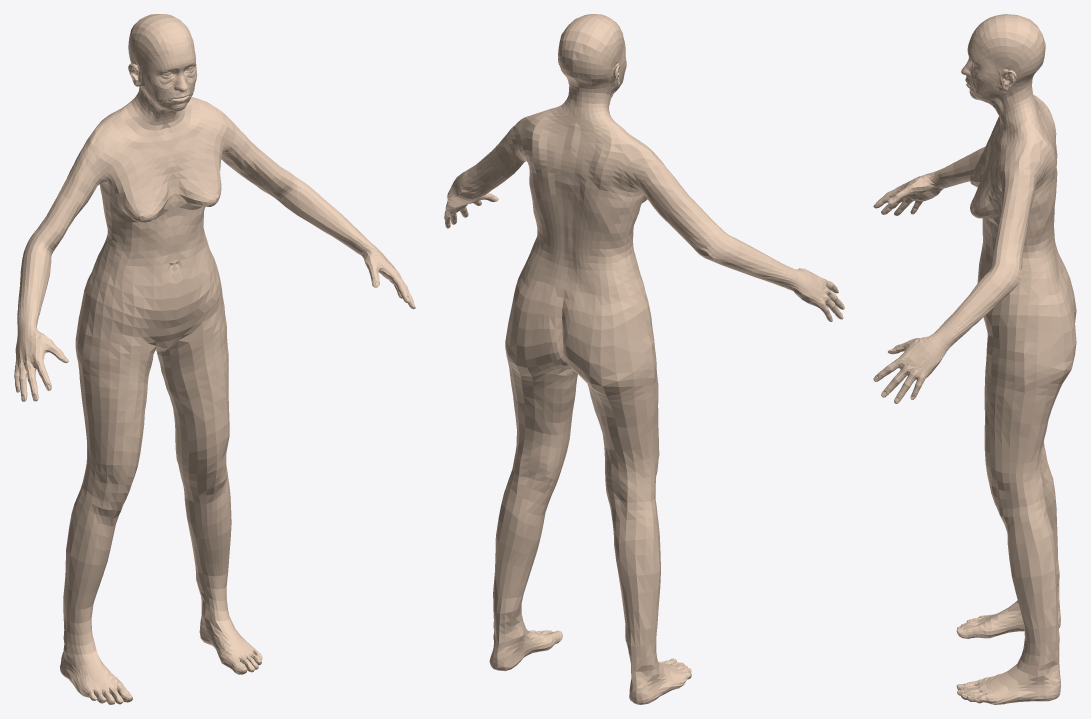
The model's file is female-elder-average-toned.glb.
3 renders of one model, left to right at view 1: azimuth 30°, elevation 25°; view 2: azimuth 150°, elevation 25°; view 3: azimuth 270°, elevation 25°, orthographic.
Visible parts, largest first — view 1: world; view 2: world; view 3: world.
Part boxes in pixels (x1,y1,x2,y2): world: (14, 14, 415, 704); world: (444, 14, 844, 704); world: (873, 14, 1076, 704).
Bounding box in the file's own units: 1.13 × 1.8 × 0.5113.
